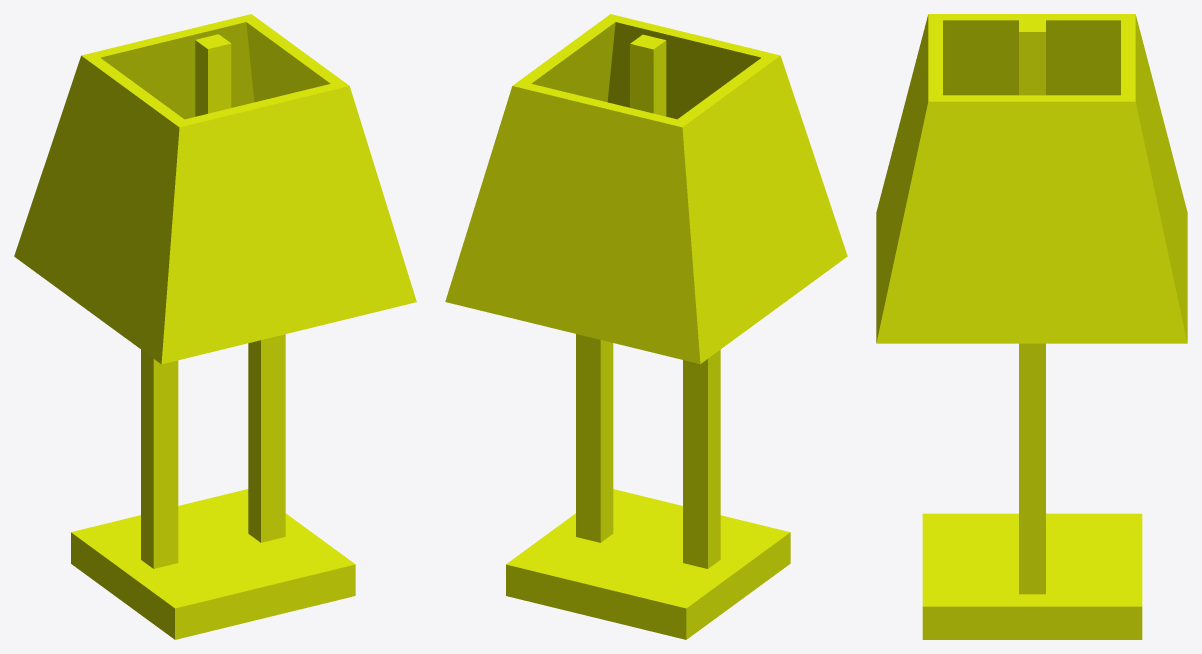
The model's file is Lamp3.FBX.
3 renders of one model, left to right at view 1: azimuth 30°, elevation 25°; view 2: azimuth 150°, elevation 25°; view 3: azimuth 270°, elevation 25°, orthographic. The views are drawn at different scales.
Parts seen in each view (by area): view 1: Cone001; view 2: Cone001; view 3: Cone001.
Boxes of the visible parts, bbox=[...] form: Cone001: bbox=[14, 14, 416, 639]; Cone001: bbox=[445, 14, 847, 639]; Cone001: bbox=[876, 14, 1187, 639].
Bounding box in the file's own units: 0.5056 × 1.02 × 0.5056.
